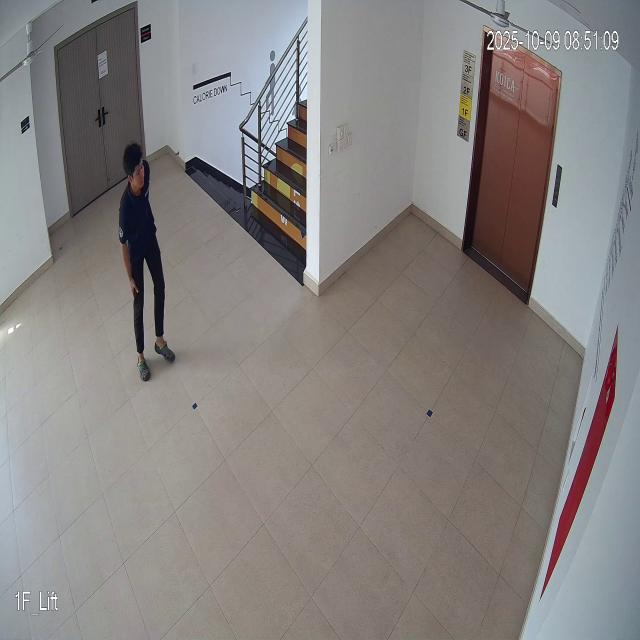face: (120, 140, 151, 201)
